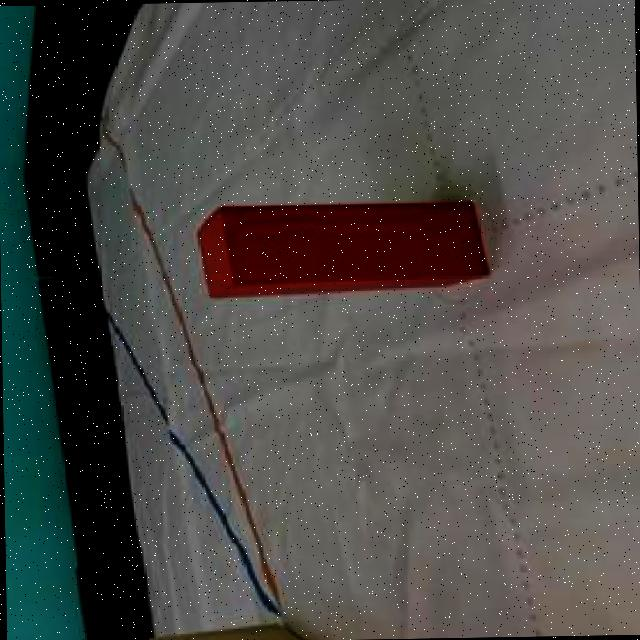redbox: (190, 202, 488, 298)
